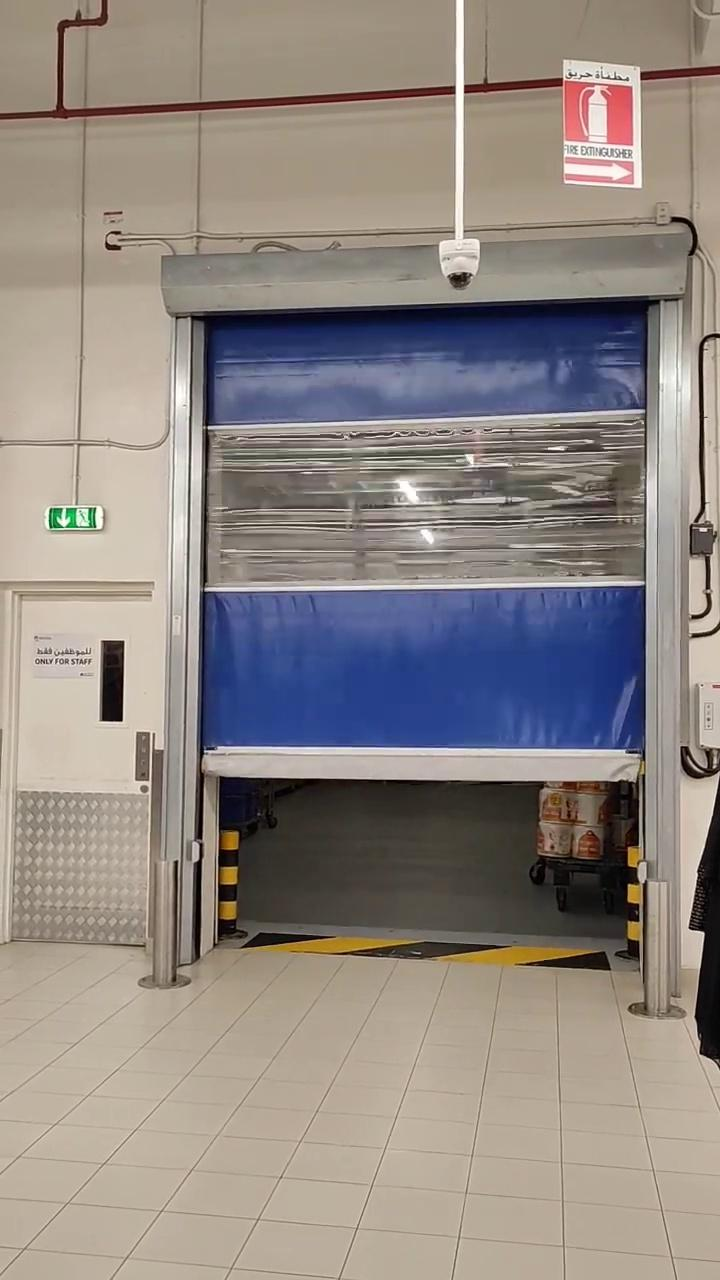Strip: (246, 933, 611, 977)
